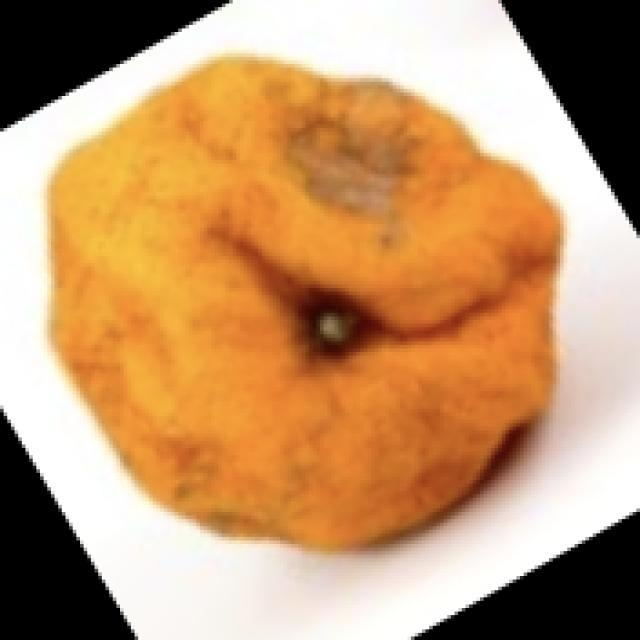sedikit-busuk: (49, 59, 560, 549)
